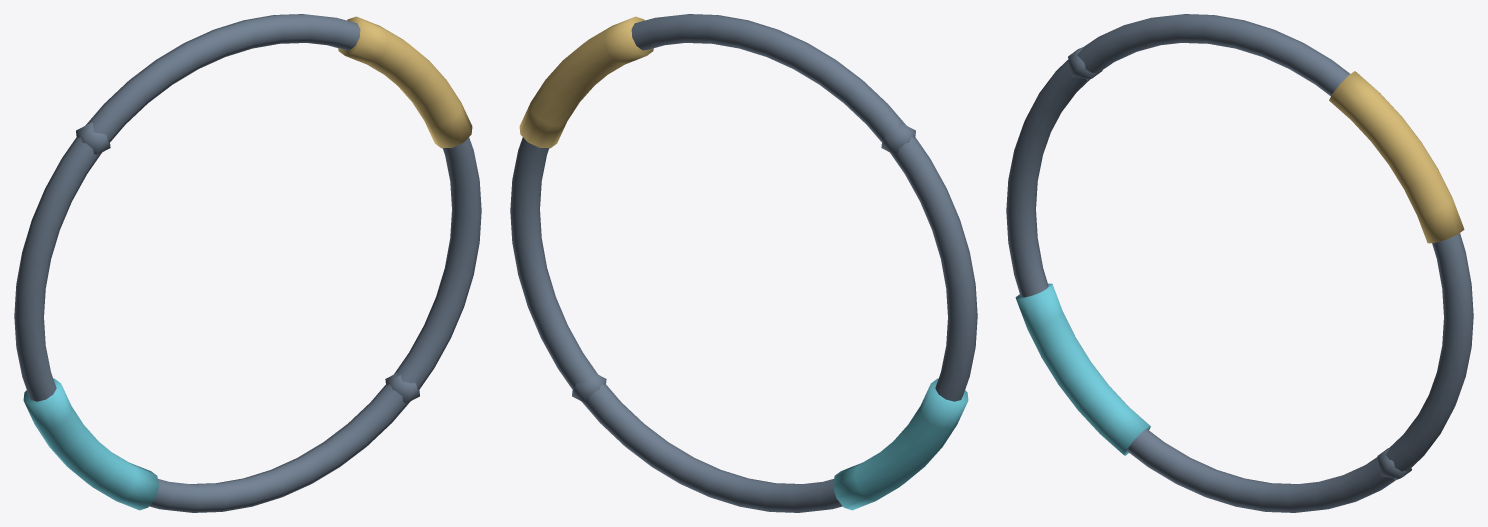
The model's file is Halo.fbx.
3 views of the same model, side by side, from view 1: azimuth 30°, elevation 25°; view 2: azimuth 150°, elevation 25°; view 3: azimuth 330°, elevation 25° (orthographic).
Visible parts, largest first — view 1: Halo; view 2: Halo; view 3: Halo.
Part boxes in pixels (x1,y1,x2,y2): Halo: [14, 14, 481, 512]; Halo: [510, 14, 977, 512]; Halo: [1006, 14, 1473, 512].
Bounding box in the file's own units: 4.66 × 4.66 × 0.36.
